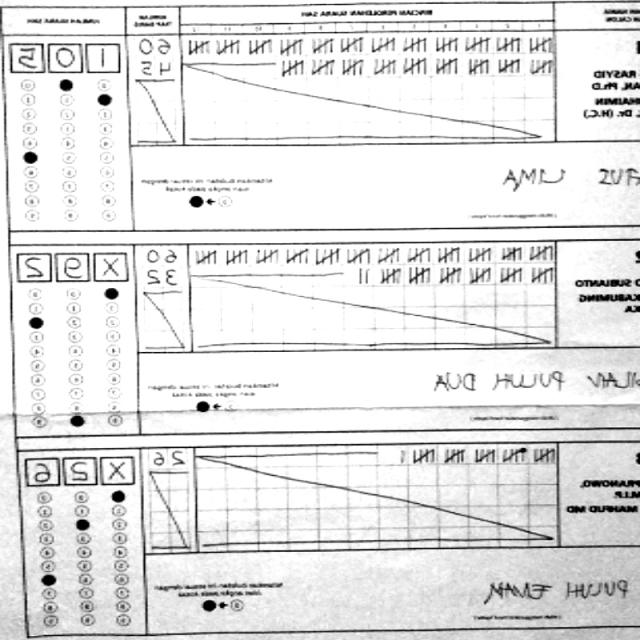Suara: (22, 452, 140, 491), (15, 247, 132, 286), (7, 38, 124, 76)
